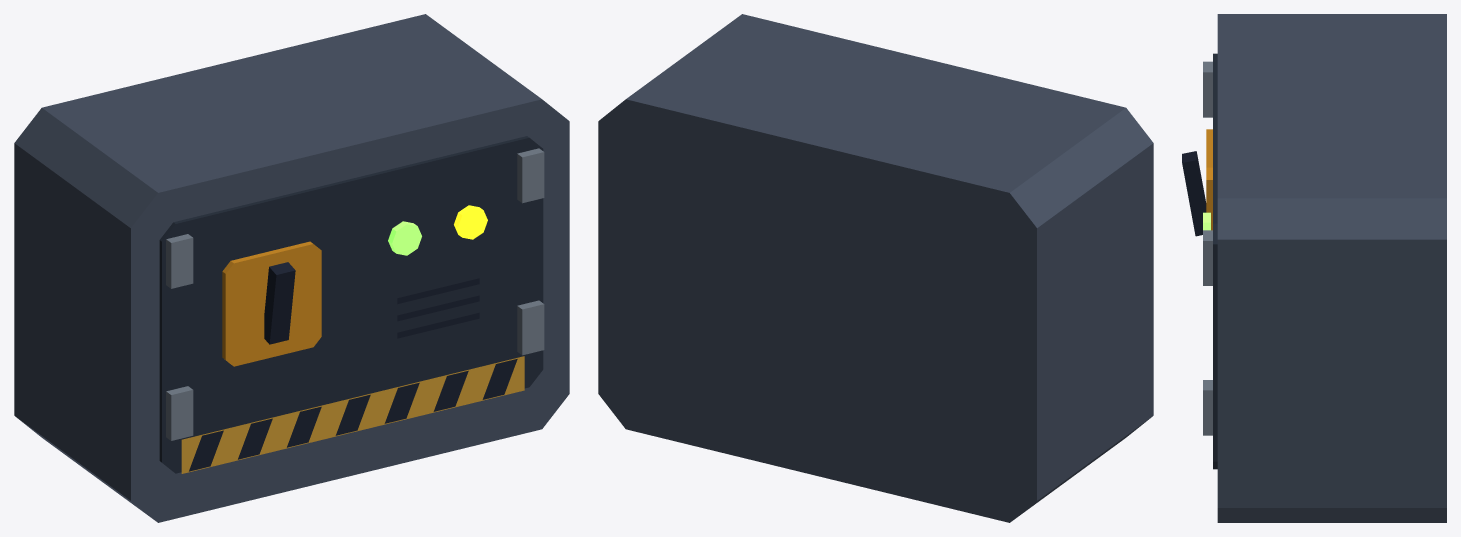
File: fus_junction_box.glb
The picture shows the model from 3 angles, left to right: view 1: azimuth 30°, elevation 25°; view 2: azimuth 150°, elevation 25°; view 3: azimuth 270°, elevation 25°; orthographic projection.
Parts seen in each view (by area): view 1: armored_case, access_door, cooling_louver, isolator_backplate, warning_band, door_hinge, status_lamp, status_lamp.001; view 2: armored_case; view 3: armored_case, access_door, door_hinge, cooling_louver, isolator_backplate.
Boxes of the visible parts, x1,y1,x2,y2 form: armored_case: (14,14,569,522); access_door: (159,136,543,473); cooling_louver: (189,262,517,471); isolator_backplate: (222,241,321,366); warning_band: (181,356,524,473); door_hinge: (166,148,544,440); status_lamp: (388,221,421,255); status_lamp.001: (454,205,487,239); armored_case: (598,14,1153,522); armored_case: (1217,14,1446,522); access_door: (1213,53,1217,469); door_hinge: (1203,61,1212,435); cooling_louver: (1182,151,1206,236); isolator_backplate: (1206,129,1212,230).
Size of the model in its own units: 1.6 by 1.15 by 0.85.
